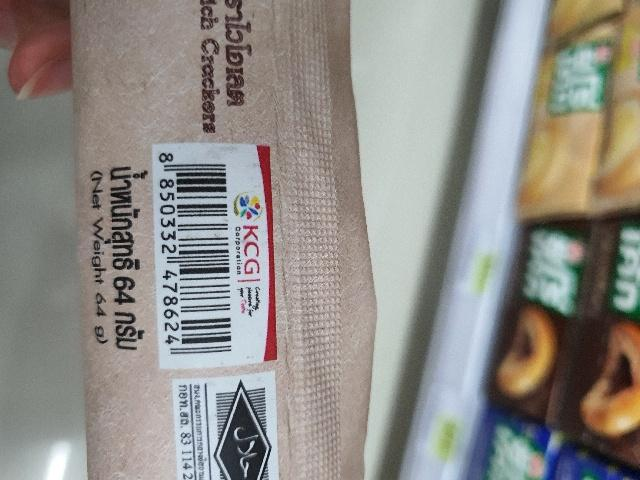Barcode: (151, 144, 236, 370)
